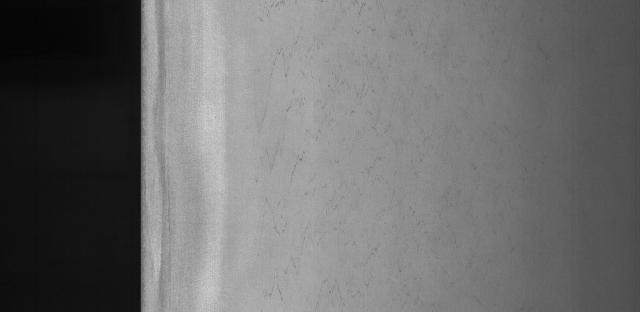silk_spot: (244, 8, 450, 289)
